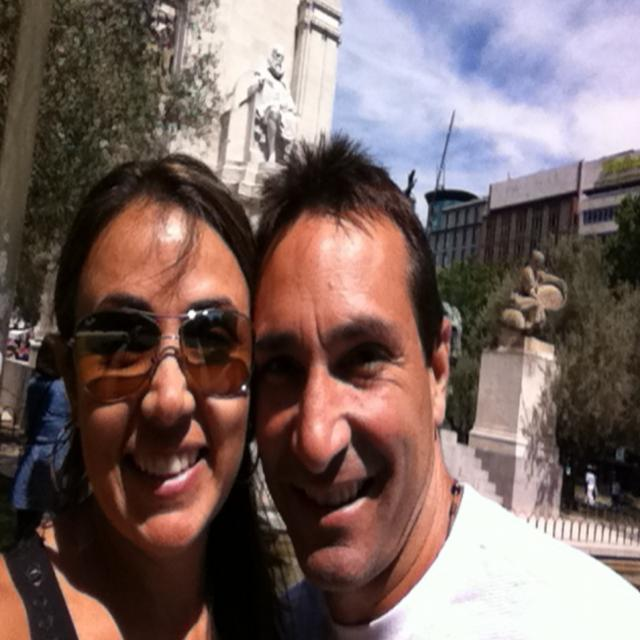Glasses: (61, 296, 255, 406)
